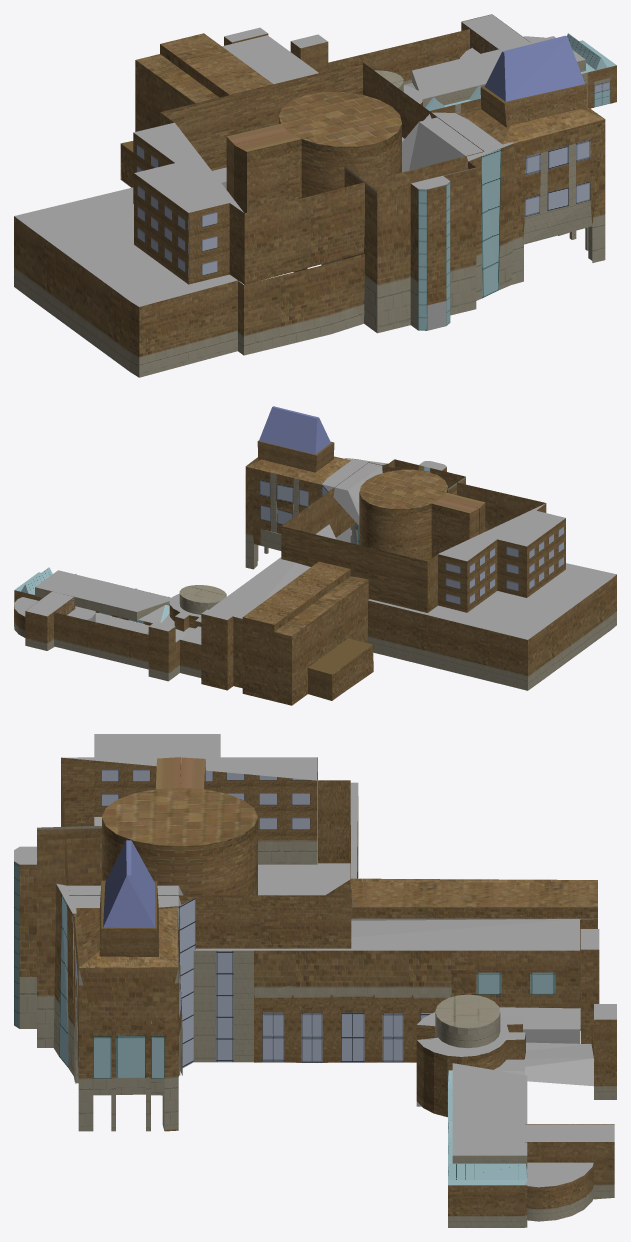
The model's file is Odette.fbx.
3 views of the same model, one above another, from view 1: azimuth 30°, elevation 25°; view 2: azimuth 150°, elevation 25°; view 3: azimuth 270°, elevation 25° (orthographic). The views are drawn at different scales.
Parts seen in each view (by area): view 1: Odette, TopCyl, Roof; view 2: Odette, TopCyl, Roof, SmallCyl, OutsideWall, BigCyl; view 3: Odette, TopCyl, Roof, BigCyl, OutsideWall, SmallCyl.
Boxes of the visible parts, <box> form: Odette: <box>14,14,616,377</box>; TopCyl: <box>226,92,401,213</box>; Roof: <box>412,36,585,107</box>; Odette: <box>14,406,616,705</box>; TopCyl: <box>359,469,485,561</box>; Roof: <box>35,570,171,620</box>; SmallCyl: <box>179,585,226,614</box>; OutsideWall: <box>14,597,95,637</box>; BigCyl: <box>169,593,201,631</box>; Odette: <box>14,734,616,1227</box>; TopCyl: <box>102,757,257,895</box>; Roof: <box>452,1063,527,1168</box>; BigCyl: <box>416,1012,525,1117</box>; OutsideWall: <box>527,1162,593,1221</box>; SmallCyl: <box>435,994,500,1048</box>.
Bounding box in the file's own units: 11.65 × 3.8 × 8.17.
